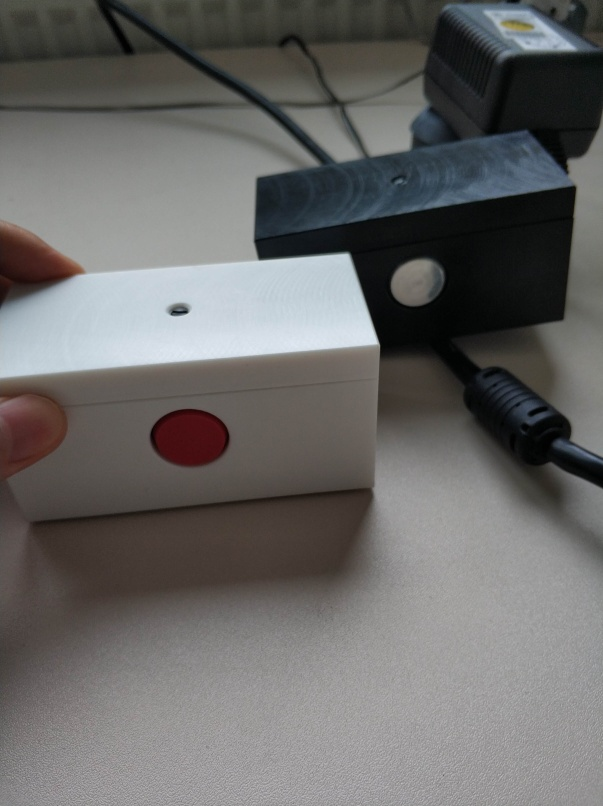black+black+silver: (251, 127, 582, 348)
white+white+red: (1, 246, 386, 530)
